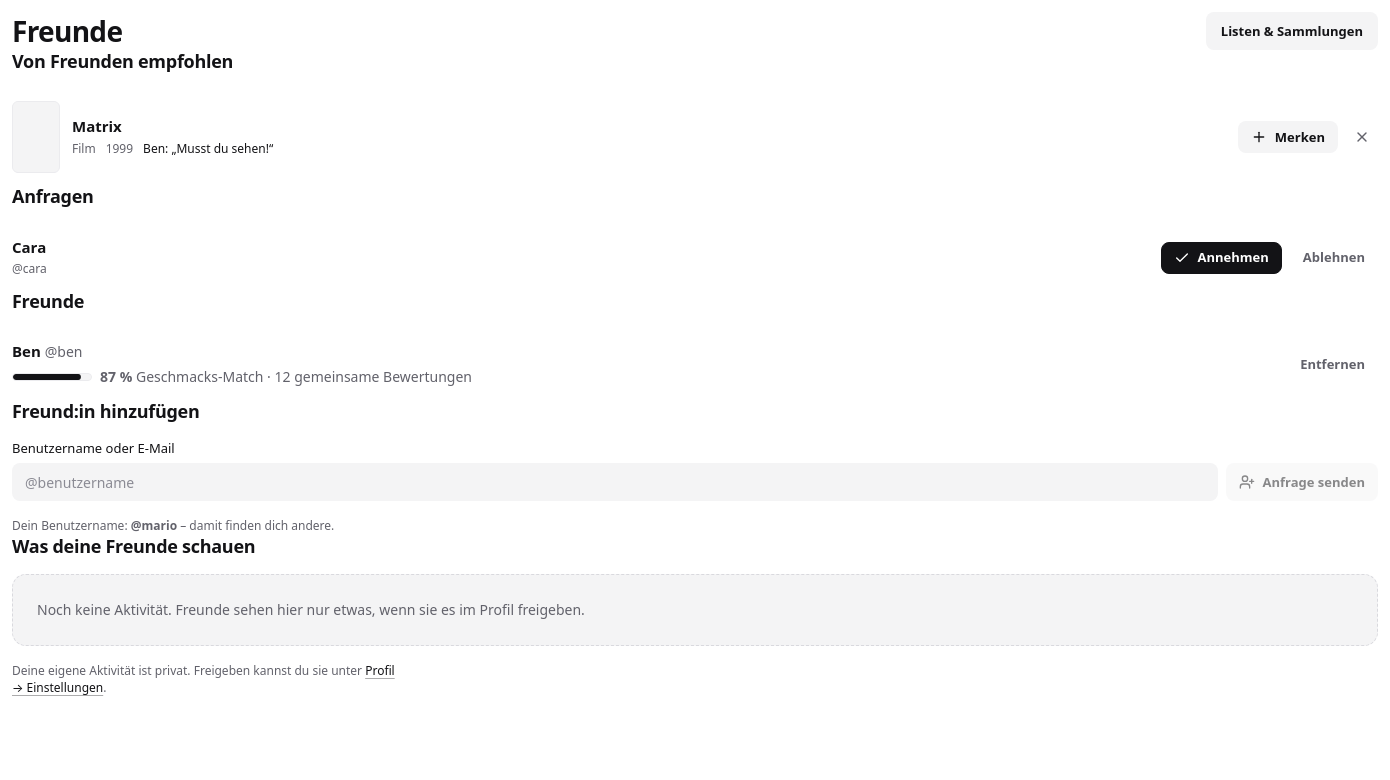
Test: FriendsPage › adds a recommended title to my watchlist
Check: the text "Ben: „Musst du sehen!“" is shown, box [143,141,273,158]
Click the button "Merken": (1288, 137) [1238,121,1338,153]
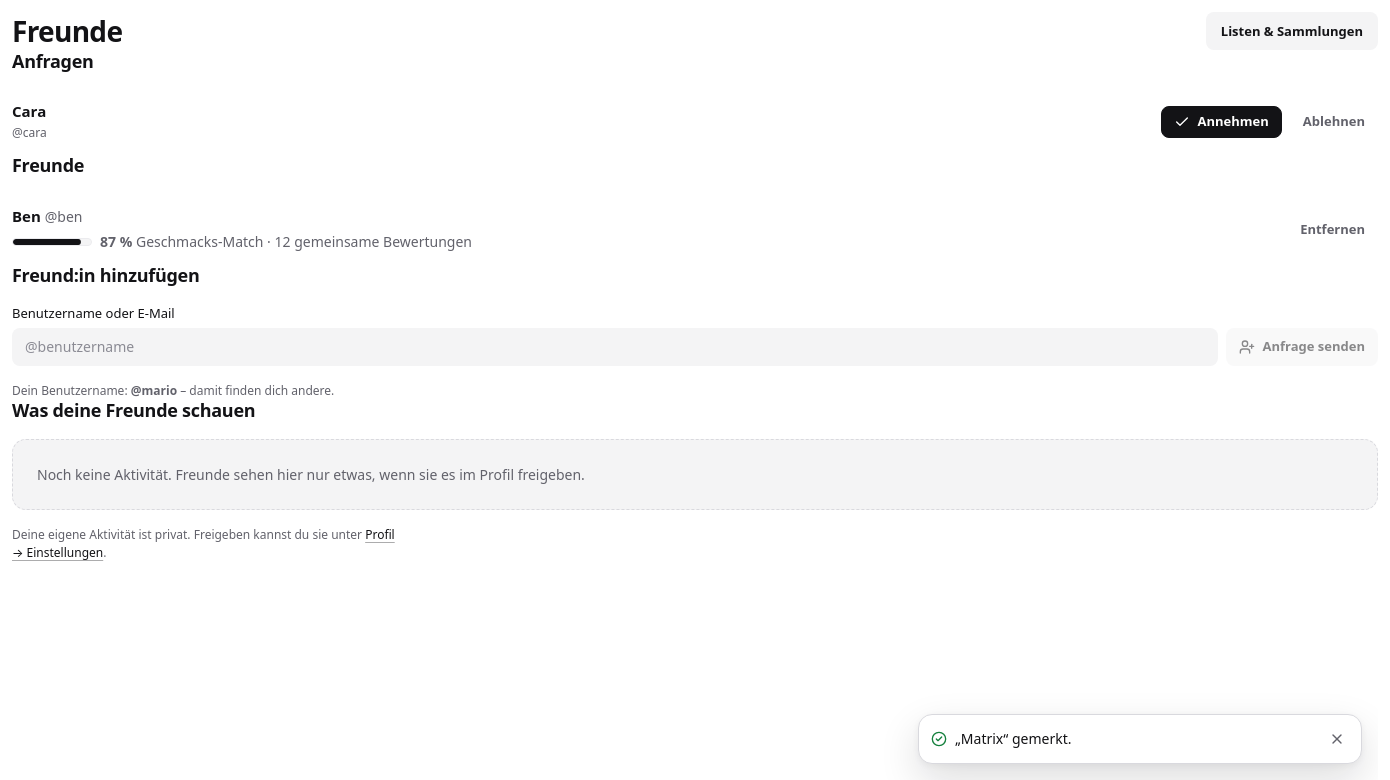
Check: the text "„Matrix“ gemerkt." is shown, box [955,729,1072,748]
